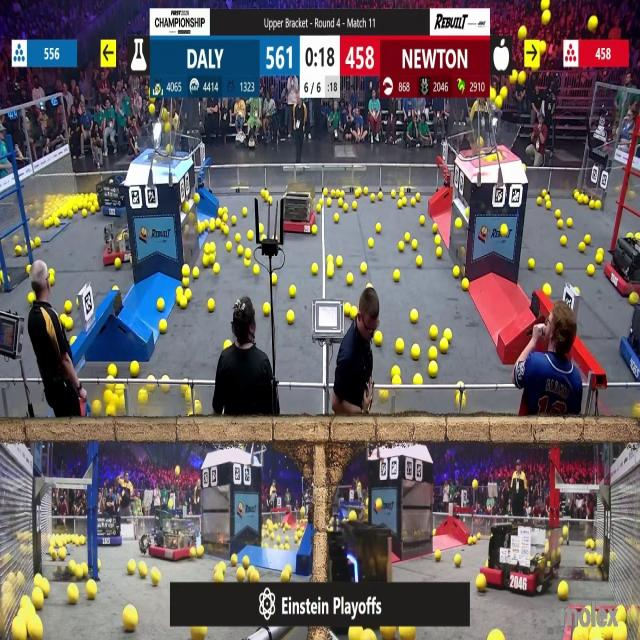ball_airborne: (589, 18, 598, 33), (541, 10, 549, 23), (519, 27, 527, 40), (532, 58, 539, 72), (490, 89, 497, 102), (539, 0, 548, 10), (519, 72, 526, 84), (486, 153, 496, 161), (496, 97, 502, 109), (539, 40, 545, 52), (499, 89, 506, 99), (163, 110, 170, 120), (165, 145, 172, 155), (165, 121, 171, 131), (148, 104, 154, 114), (512, 70, 518, 80), (176, 466, 180, 475)
ball_ground: (125, 608, 138, 633), (28, 621, 40, 640), (30, 590, 42, 608), (68, 586, 79, 605), (558, 582, 569, 600), (399, 626, 413, 640), (193, 627, 208, 640), (88, 581, 98, 600), (477, 575, 487, 591), (131, 360, 140, 376), (151, 568, 160, 584), (349, 627, 361, 639), (383, 627, 395, 639), (248, 568, 258, 582), (428, 361, 437, 376), (412, 345, 421, 360), (94, 402, 102, 418), (375, 333, 383, 348), (214, 570, 224, 582), (193, 403, 201, 418), (429, 325, 437, 339), (140, 564, 148, 578), (129, 561, 137, 575), (396, 340, 404, 354), (108, 364, 117, 376), (428, 348, 437, 360), (237, 568, 246, 580), (490, 631, 502, 640), (264, 304, 272, 317), (66, 317, 74, 330), (500, 223, 508, 236), (75, 564, 83, 577), (106, 406, 115, 417), (42, 584, 49, 598), (286, 312, 294, 324), (282, 569, 290, 581), (630, 292, 638, 304), (454, 555, 462, 567), (350, 307, 358, 319), (198, 220, 206, 232), (412, 310, 419, 323), (161, 320, 168, 333), (376, 498, 383, 511), (634, 404, 640, 419), (588, 266, 596, 277), (28, 292, 36, 303), (556, 264, 564, 275), (444, 328, 452, 339), (181, 267, 189, 278), (543, 284, 550, 296), (289, 286, 296, 298), (347, 274, 354, 286), (442, 341, 449, 353), (208, 300, 215, 312), (243, 556, 250, 568), (203, 254, 210, 266), (82, 563, 88, 577), (190, 548, 197, 560), (69, 561, 76, 573), (572, 630, 580, 640), (393, 271, 400, 282), (191, 268, 198, 279), (596, 253, 603, 264), (528, 260, 535, 271), (453, 268, 460, 279), (60, 549, 67, 560), (66, 302, 72, 314), (312, 265, 318, 277), (272, 274, 278, 286), (159, 300, 165, 312), (344, 305, 350, 317), (415, 374, 422, 384), (392, 365, 399, 375), (213, 265, 220, 275), (245, 249, 252, 259), (232, 556, 239, 566), (237, 246, 244, 256), (222, 224, 229, 234), (198, 548, 205, 558), (434, 551, 440, 562), (360, 264, 366, 275), (462, 279, 468, 290), (435, 247, 441, 258), (185, 288, 191, 299), (225, 241, 231, 252), (253, 266, 259, 277), (392, 377, 400, 385), (259, 189, 266, 198), (312, 224, 318, 234), (376, 222, 382, 232), (182, 278, 188, 288), (561, 237, 567, 247), (35, 238, 41, 248), (326, 269, 332, 279), (434, 236, 440, 246), (578, 243, 584, 253), (114, 258, 120, 268), (180, 300, 186, 310), (456, 218, 462, 228), (210, 243, 216, 253), (382, 390, 388, 400), (210, 220, 216, 230), (193, 192, 199, 202), (563, 526, 569, 536), (556, 209, 562, 218), (403, 234, 409, 243), (48, 277, 54, 286), (586, 236, 592, 245), (566, 218, 572, 227), (544, 201, 550, 210), (258, 223, 264, 232), (15, 246, 21, 255), (219, 562, 225, 571), (558, 219, 564, 228), (355, 188, 361, 197), (596, 201, 602, 210), (413, 240, 418, 250), (417, 256, 422, 266), (398, 242, 403, 252), (338, 256, 343, 266), (420, 216, 426, 224), (536, 198, 542, 206), (352, 203, 358, 211), (244, 258, 250, 266), (326, 254, 332, 262), (335, 214, 341, 222), (259, 235, 265, 243), (396, 200, 402, 208), (367, 239, 372, 248), (248, 232, 253, 241), (243, 208, 248, 217), (412, 199, 417, 208), (92, 206, 97, 215), (369, 192, 374, 201), (484, 561, 490, 568), (237, 235, 242, 243), (27, 266, 31, 276), (177, 287, 182, 295), (316, 205, 321, 213), (416, 192, 421, 200), (223, 341, 228, 349), (326, 200, 331, 208), (222, 215, 227, 223), (344, 204, 349, 212), (339, 200, 344, 208), (391, 190, 396, 198), (56, 218, 61, 226), (401, 200, 406, 208), (68, 210, 73, 218), (398, 190, 403, 198), (363, 187, 368, 195), (44, 220, 49, 228), (162, 382, 167, 390), (432, 223, 436, 232), (187, 412, 193, 418), (216, 218, 220, 227), (277, 538, 281, 547), (323, 188, 328, 195), (269, 199, 274, 206), (82, 209, 86, 217), (233, 216, 237, 224), (98, 561, 102, 569), (468, 536, 472, 544), (379, 192, 383, 200), (218, 208, 222, 216), (432, 529, 436, 536), (544, 193, 548, 200), (281, 543, 285, 549)
goal: (466, 119, 521, 160), (128, 129, 188, 161)
robot_blue: (621, 312, 640, 381), (97, 174, 126, 214), (93, 517, 122, 546)
robot_red: (488, 518, 560, 596), (149, 515, 195, 560), (608, 236, 640, 297), (282, 175, 316, 229), (102, 221, 132, 266)
